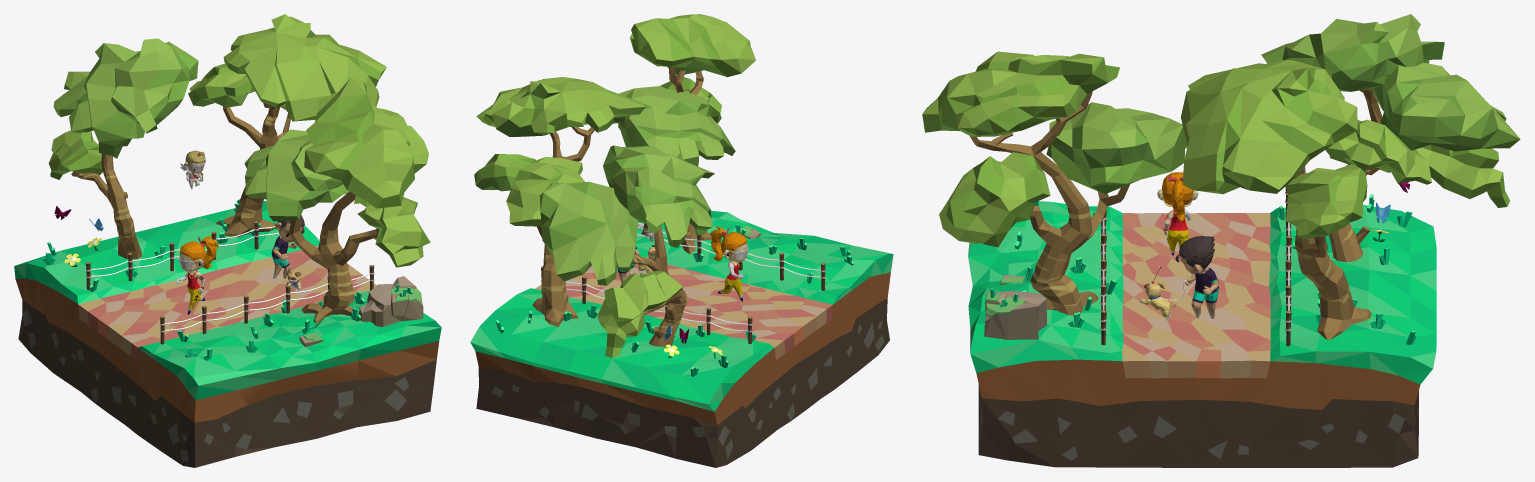
File: 0080_Lucy_jogging.fbx
3 renders of one model, left to right at view 1: azimuth 30°, elevation 25°; view 2: azimuth 150°, elevation 25°; view 3: azimuth 270°, elevation 25°, orthographic. The views are drawn at different scales.
Parts seen in each view (by area): view 1: Ground_B, Ground_A, Tree_C_leaf_2, Tree_A_leaf_2, Tree_B_leaf_2, Tree_C_leaf_1, Tree_C, Tree_C_leaf_3, Stone_A, Tree_A_leaf_1, Tree_B_leaf_1, Tree_B_1 (+4 smaller); view 2: Ground_A, Ground_B, Tree_A_leaf_3, Tree_A_leaf_2, Tree_B_leaf_2, Tree_C_leaf_2, Tree_C_leaf_1, Tree_A_leaf_1, Tree_B_leaf_1, Tree_B_1, Tree_B_leaf_3, Tree_A_1 (+5 smaller); view 3: Ground_A, Ground_B, Tree_B_leaf_2, Tree_C_leaf_2, Tree_C_leaf_1, Tree_A_leaf_3, Tree_A_leaf_2, Tree_C, Tree_C_leaf_3, Tree_B_leaf_3, Tree_B_leaf_1, Tree_A_leaf_1 (+6 smaller).
Part boxes in pixels (x1,y1,x2,y2): Ground_B: (107,266,441,467); Ground_A: (14,201,350,411); Tree_C_leaf_2: (304,77,428,208); Tree_A_leaf_2: (53,38,189,158); Tree_B_leaf_2: (223,14,386,121); Tree_C_leaf_1: (244,129,349,221); Tree_C: (289,191,379,323); Tree_C_leaf_3: (354,195,430,267); Stone_A: (358,276,423,326); Tree_A_leaf_1: (48,130,102,179); Tree_B_leaf_1: (188,63,254,107); Tree_B_1: (216,186,275,237); Ground_A: (470,273,803,467); Ground_B: (585,210,893,411); Tree_A_leaf_3: (539,181,638,285); Tree_A_leaf_2: (603,145,714,247); Tree_B_leaf_2: (476,77,645,136); Tree_C_leaf_2: (630,14,755,77); Tree_C_leaf_1: (618,86,735,164); Tree_A_leaf_1: (597,270,682,357); Tree_B_leaf_1: (506,156,584,226); Tree_B_1: (532,245,577,326); Tree_B_leaf_3: (474,154,535,191); Tree_A_1: (649,289,687,346); Ground_A: (1196,205,1436,467); Ground_B: (968,201,1196,467); Tree_B_leaf_2: (1181,59,1357,194); Tree_C_leaf_2: (922,51,1119,136); Tree_C_leaf_1: (1046,102,1187,194); Tree_A_leaf_3: (1372,62,1520,151); Tree_A_leaf_2: (1261,14,1444,91); Tree_C: (969,91,1129,315); Tree_C_leaf_3: (939,152,1050,247); Tree_B_leaf_3: (1285,164,1367,239); Tree_B_leaf_1: (1325,119,1431,184); Tree_A_leaf_1: (1412,144,1509,207).
Bounding box in the file's own units: 12.92 × 12.93 × 17.91.
